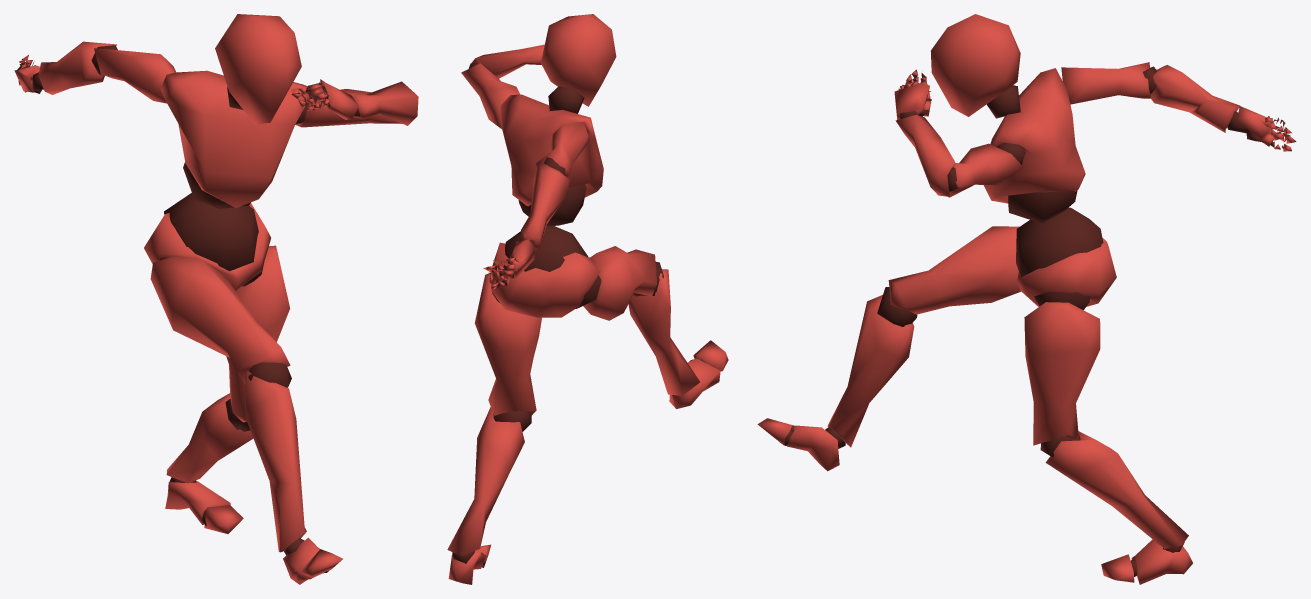
3 views of the same model, side by side, from view 1: azimuth 30°, elevation 25°; view 2: azimuth 150°, elevation 25°; view 3: azimuth 270°, elevation 25° (orthographic). The views are drawn at different scales.
Parts seen in each view (by area): view 1: Beta_Surface; view 2: Beta_Surface; view 3: Beta_Surface.
Boxes of the visible parts, <box> form: Beta_Surface: <box>14,14,418,584</box>; Beta_Surface: <box>447,14,728,584</box>; Beta_Surface: <box>757,14,1296,584</box>.
Size of the model in its own units: 5.98 by 14.25 by 12.79.
